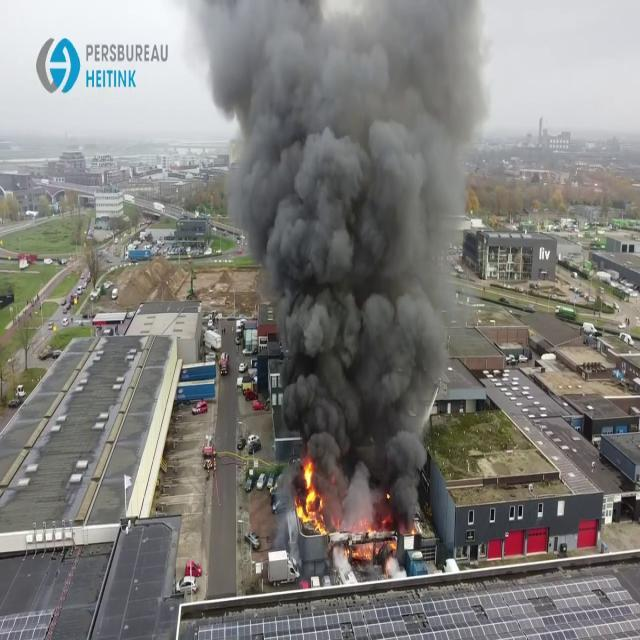Fire: (294, 455, 326, 532)
Smoke: (204, 0, 486, 492)
